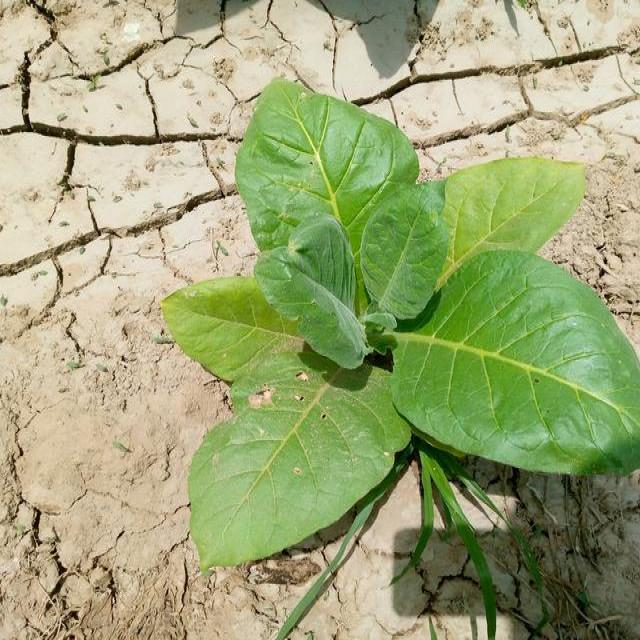crop: (174, 84, 640, 550)
